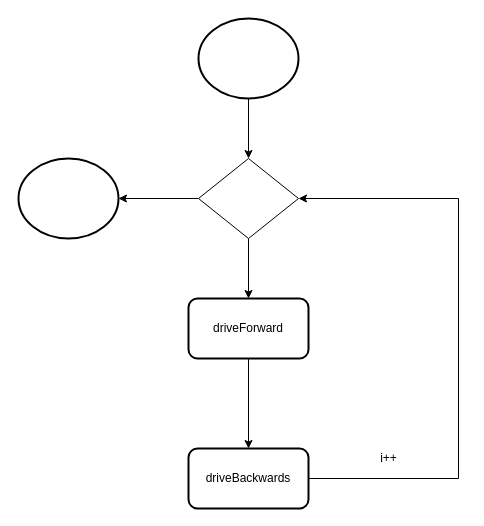
This 484x526 diagram has some shape labels left out. Each missing label, with the centre of its shape:
End: [68,198]
Start: [248,58]
